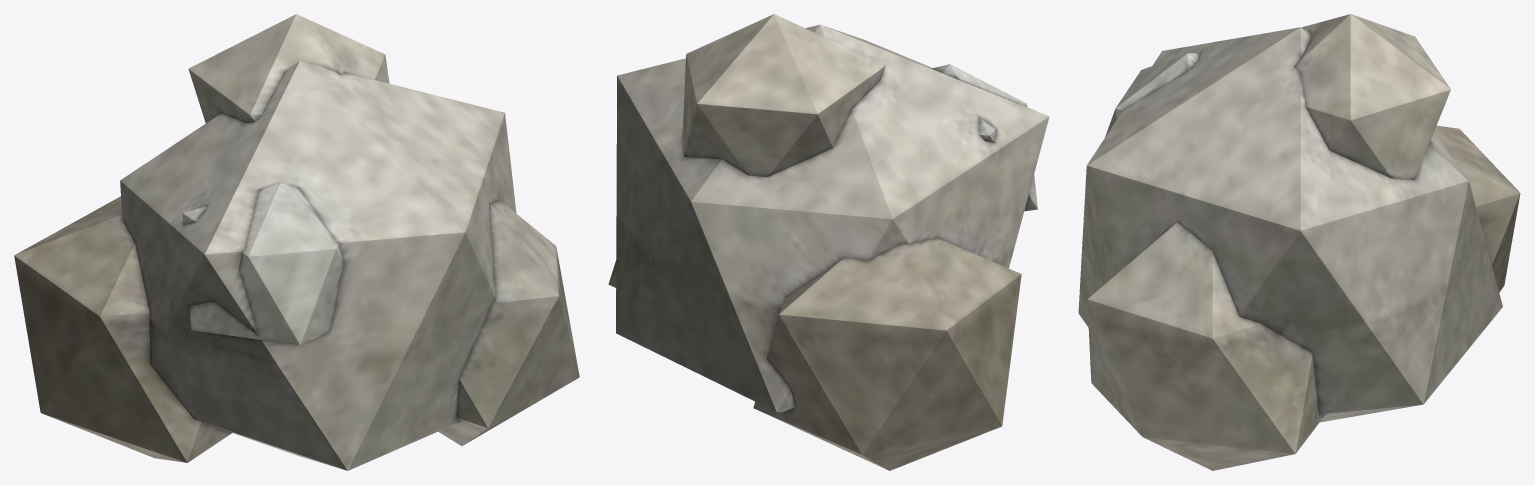
File: kit_rock.glb
The picture shows the model from 3 angles, left to right: view 1: azimuth 30°, elevation 25°; view 2: azimuth 150°, elevation 25°; view 3: azimuth 270°, elevation 25°; orthographic projection. The views are drawn at different scales.
Parts seen in each view (by area): view 1: rock; view 2: rock; view 3: rock.
Boxes of the visible parts, <box> form: rock: <box>14,14,579,470</box>; rock: <box>608,14,1049,470</box>; rock: <box>1078,14,1520,470</box>.
Size of the model in its own units: 2.03 by 1.87 by 1.76.
1 material, 1 textured.
